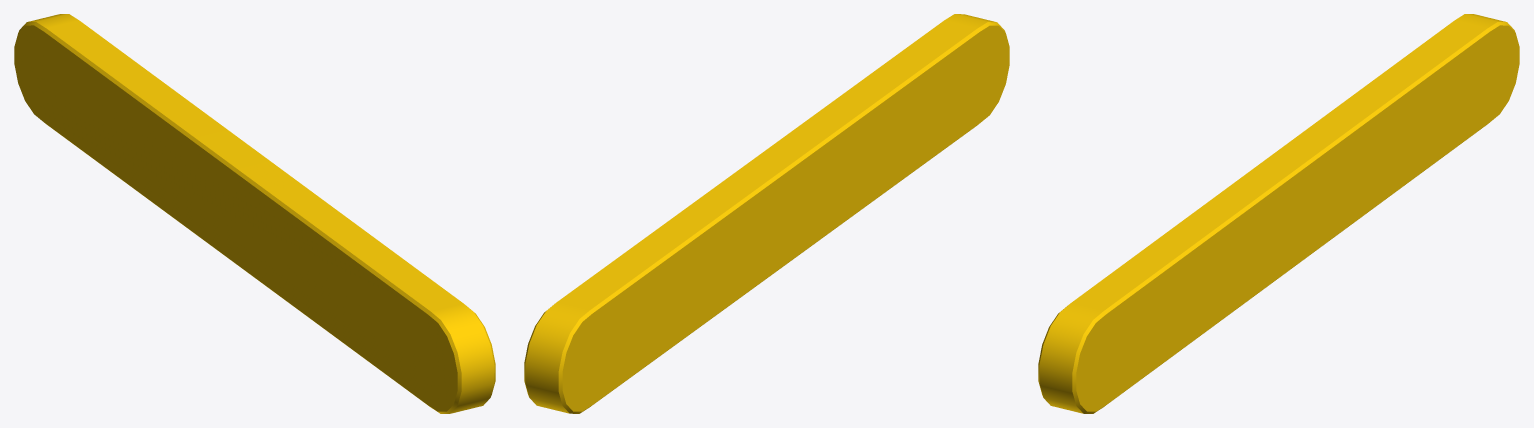
Rendered from Earthmover_Body_RipperPartB_01a_snaps005.fbx.
The picture shows the model from 3 angles, left to right: view 1: azimuth 30°, elevation 25°; view 2: azimuth 150°, elevation 25°; view 3: azimuth 330°, elevation 25°; orthographic projection.
Parts seen in each view (by area): view 1: Earthmover_Body_09a_snaps005; view 2: Earthmover_Body_09a_snaps005; view 3: Earthmover_Body_09a_snaps005.
Part boxes in pixels (left/top/right/bottom): Earthmover_Body_09a_snaps005: left=14, top=14, right=495, bottom=413; Earthmover_Body_09a_snaps005: left=524, top=14, right=1009, bottom=413; Earthmover_Body_09a_snaps005: left=1038, top=14, right=1519, bottom=413.
Bounding box in the file's own units: 7.59 × 18.71 × 155.
